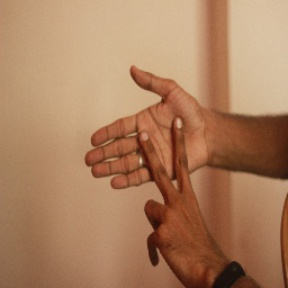N: (79, 63, 223, 247)
